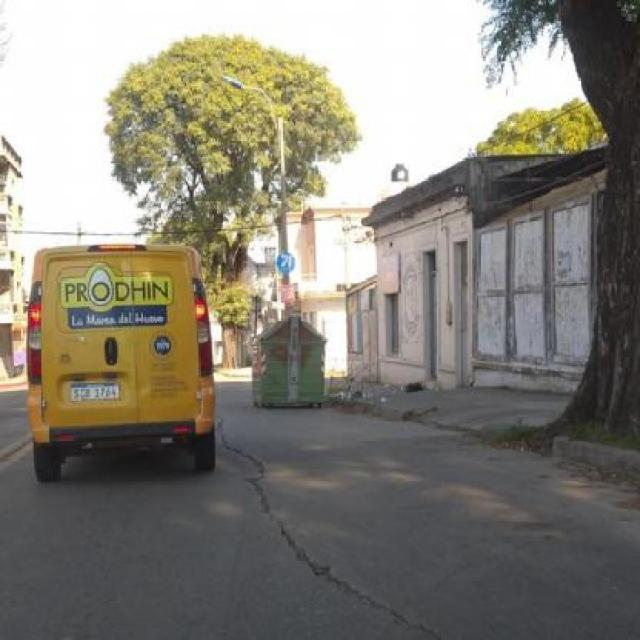garbage: (329, 369, 423, 401)
